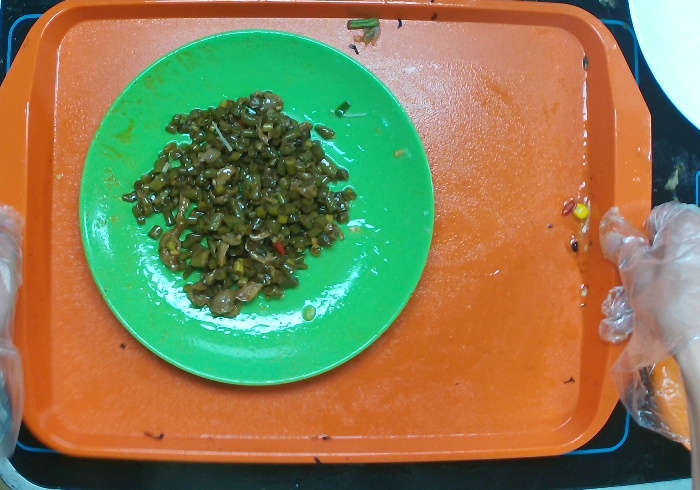HZYJPL-Lv_Se_Yuan_Pan: (71, 25, 441, 394)
